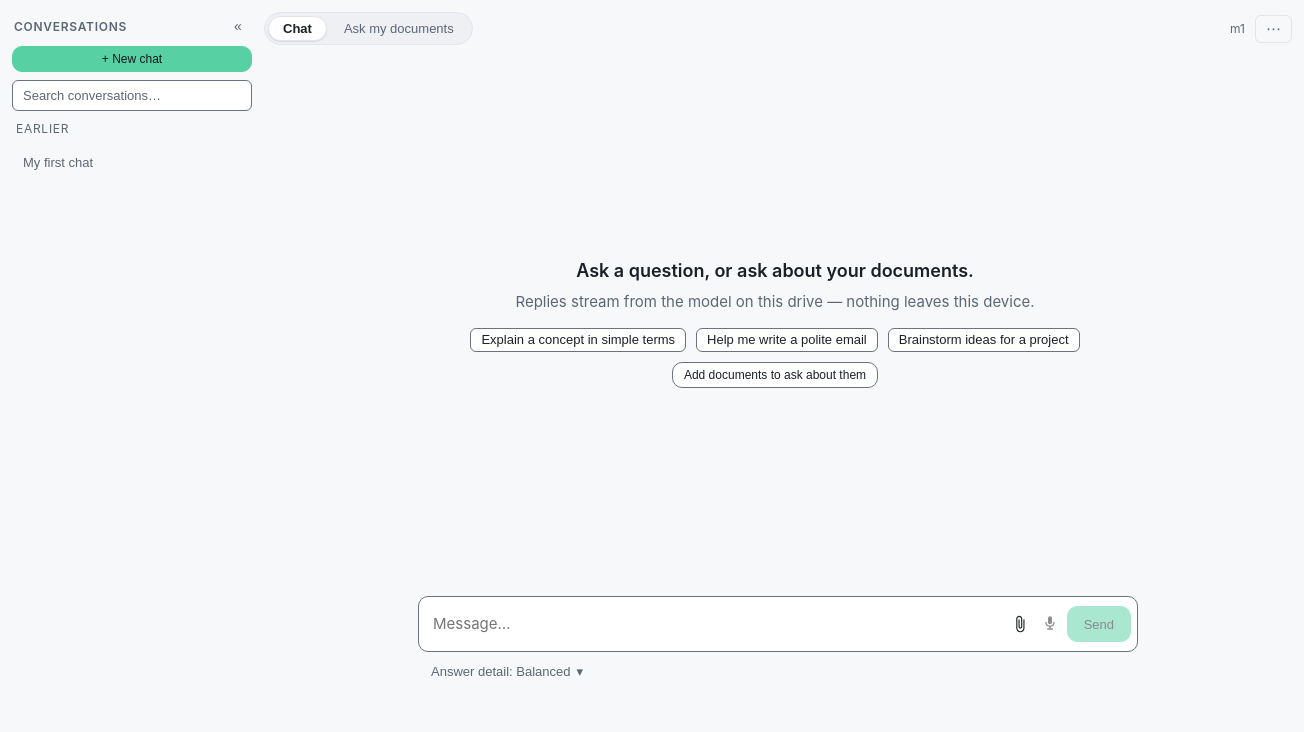
Test: ChatScreen — markdown rendering › renders raw HTML in model output as literal text (no injection)
Click the button "My first chat" at [116, 162], box [12, 142, 221, 182]
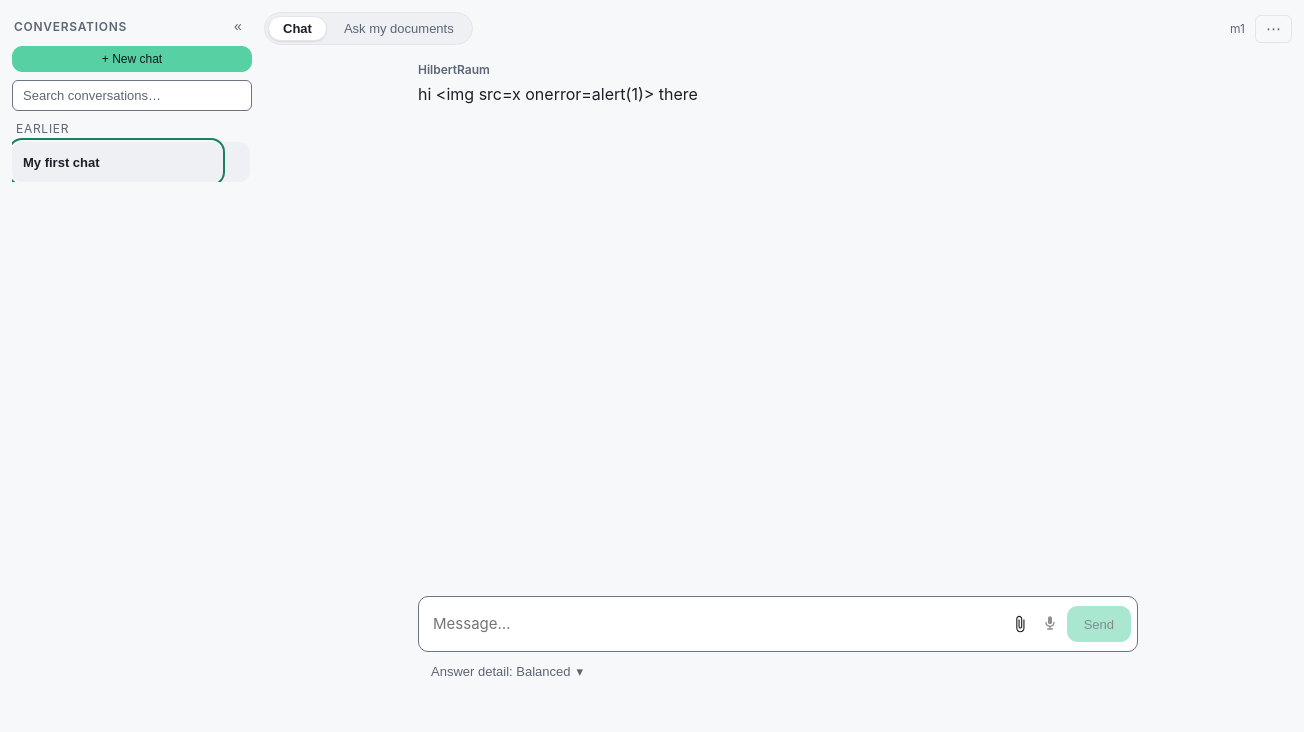
Check: the text "hi <img src=x onerror=alert(1)> there" is shown, box [418, 84, 698, 104]
